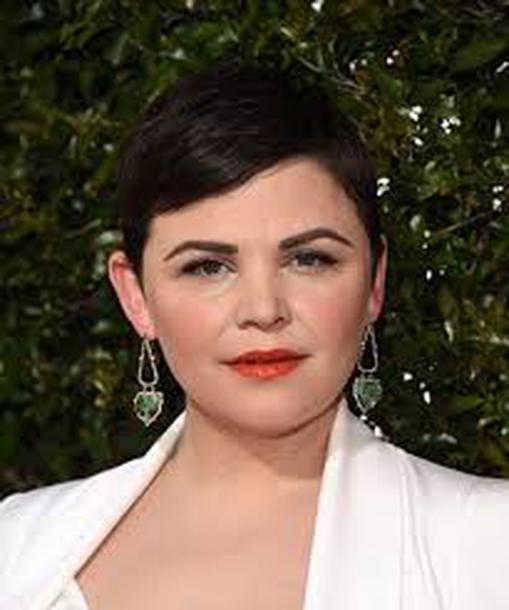eye: (283, 251, 332, 272), (182, 258, 229, 279)
mouth: (221, 348, 308, 381)
nose: (236, 295, 289, 331)
